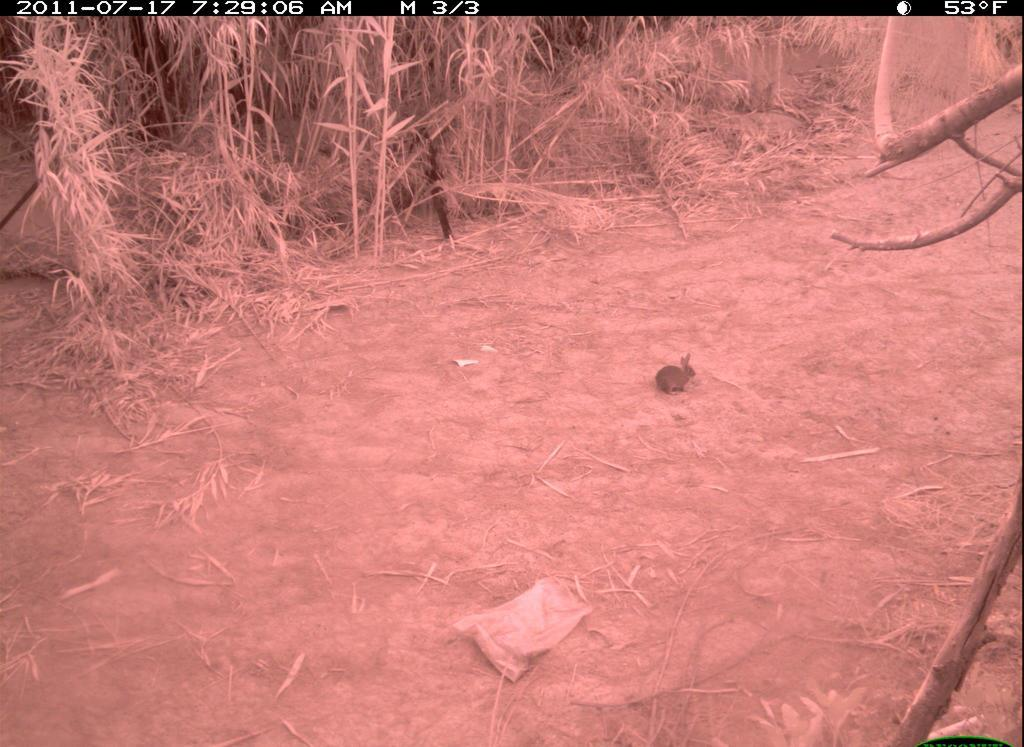rabbit: (652, 350, 702, 398)
